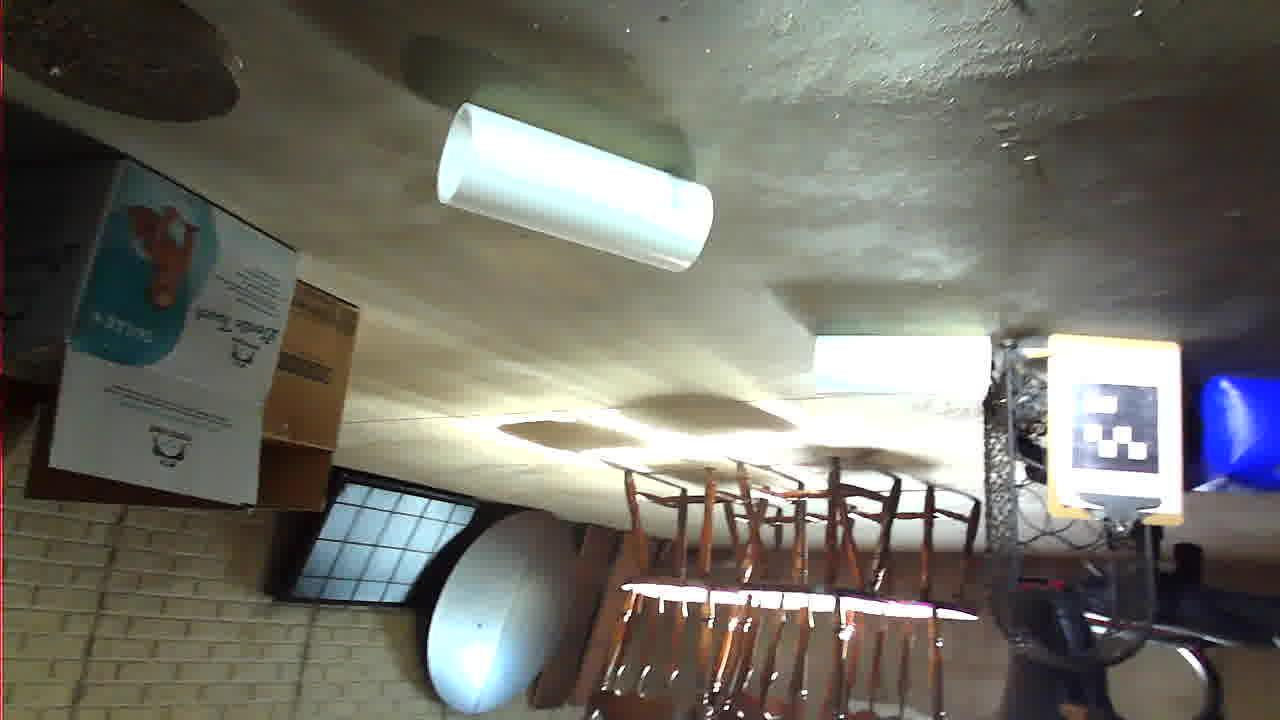coral: (566, 449, 843, 619), (289, 321, 467, 383)
